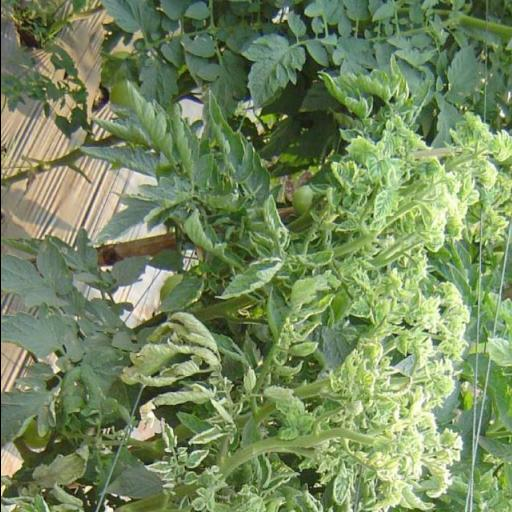disease_tomato: (261, 386, 321, 446), (218, 256, 281, 300), (330, 458, 356, 508), (330, 154, 354, 206), (370, 188, 402, 222), (156, 418, 178, 452), (182, 448, 210, 469), (142, 460, 172, 475)
